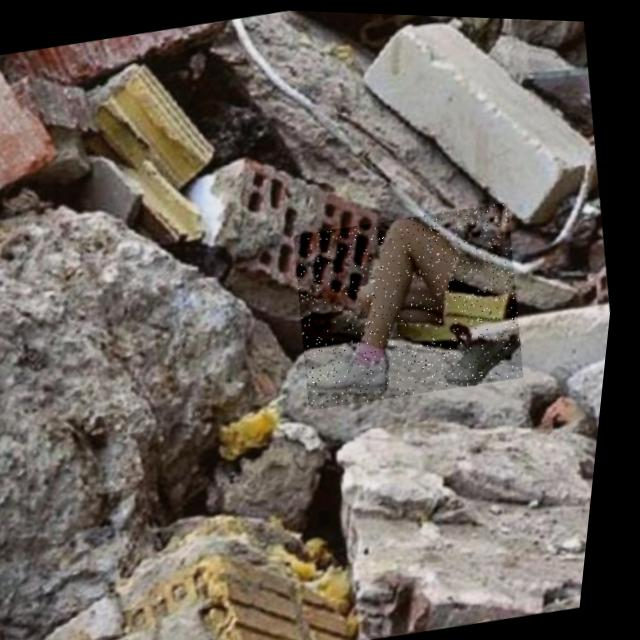Person in Rubble: (284, 192, 546, 414)
